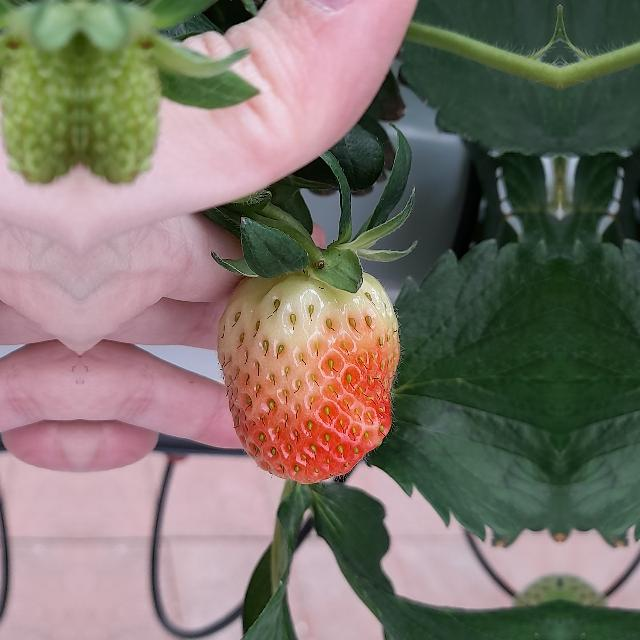Health_75: (217, 270, 399, 484)
